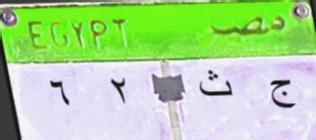2: (103, 73, 143, 112)
6: (45, 73, 76, 113)
jeem: (262, 72, 299, 115)
thaa: (195, 66, 238, 105)
